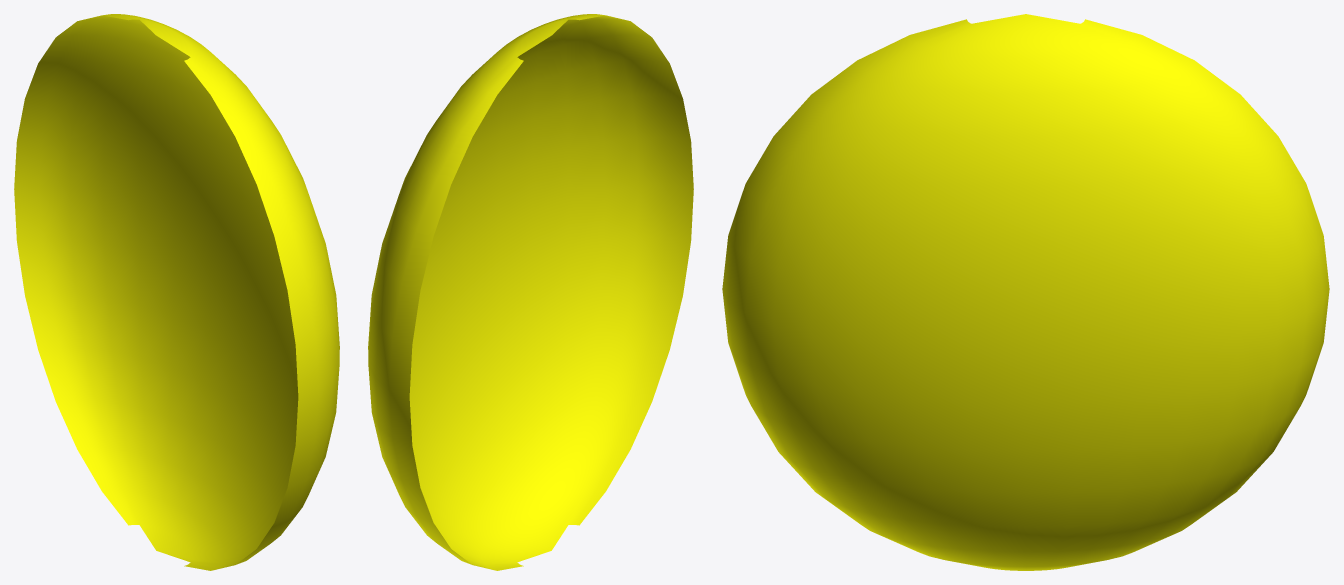
The model's file is amarillo (semaforo).fbx.
The picture shows the model from 3 angles, left to right: view 1: azimuth 30°, elevation 25°; view 2: azimuth 150°, elevation 25°; view 3: azimuth 270°, elevation 25°; orthographic projection. The views are drawn at different scales.
Parts seen in each view (by area): view 1: Cube.005; view 2: Cube.005; view 3: Cube.005.
Boxes of the visible parts, left/top/right/bottom form: Cube.005: left=14, top=14, right=339, bottom=570; Cube.005: left=368, top=14, right=693, bottom=570; Cube.005: left=722, top=14, right=1329, bottom=570.
Bounding box in the file's own units: 1.49 × 6.24 × 6.24.
Materials: 1 (1 with a texture image).
